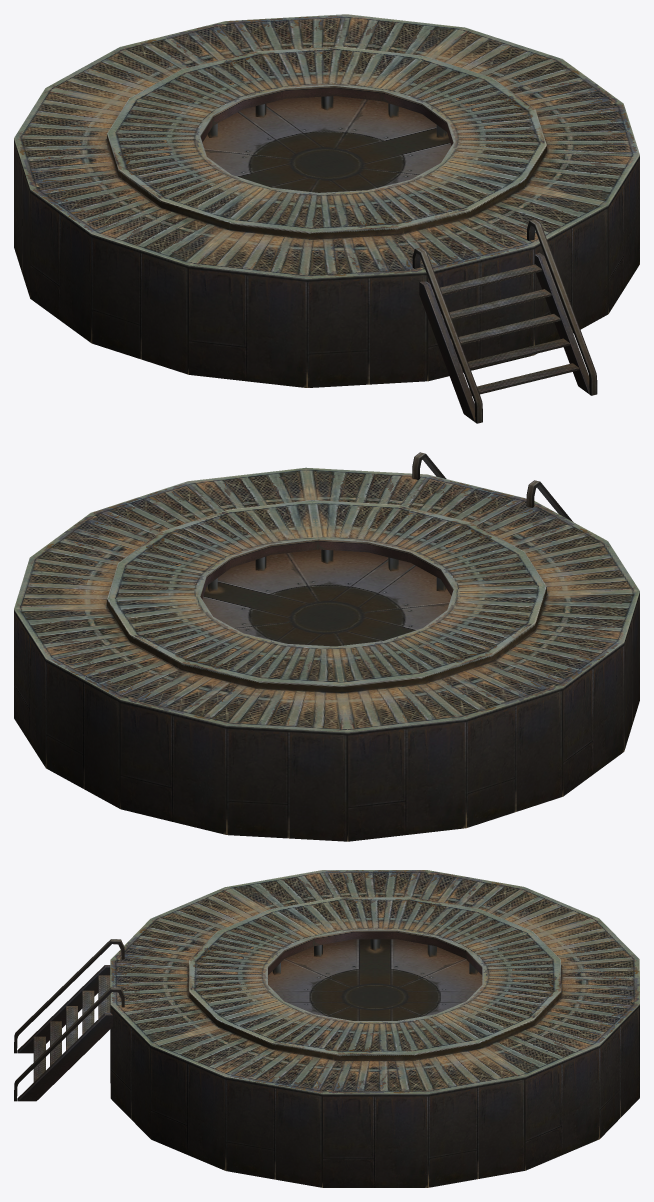
Rendered from leinabaobianyuan_yuanpan.FBX.
3 views of the same model, one above another, from view 1: azimuth 30°, elevation 25°; view 2: azimuth 150°, elevation 25°; view 3: azimuth 270°, elevation 25° (orthographic). The views are drawn at different scales.
Visible parts, largest first — view 1: leinabaobianyuan_yuanpan; view 2: leinabaobianyuan_yuanpan; view 3: leinabaobianyuan_yuanpan.
Boxes of the visible parts, bbox=[...] form: leinabaobianyuan_yuanpan: bbox=[14, 14, 639, 423]; leinabaobianyuan_yuanpan: bbox=[14, 452, 639, 841]; leinabaobianyuan_yuanpan: bbox=[14, 870, 639, 1187].
Size of the model in its own units: 1291 by 301 by 1526.
